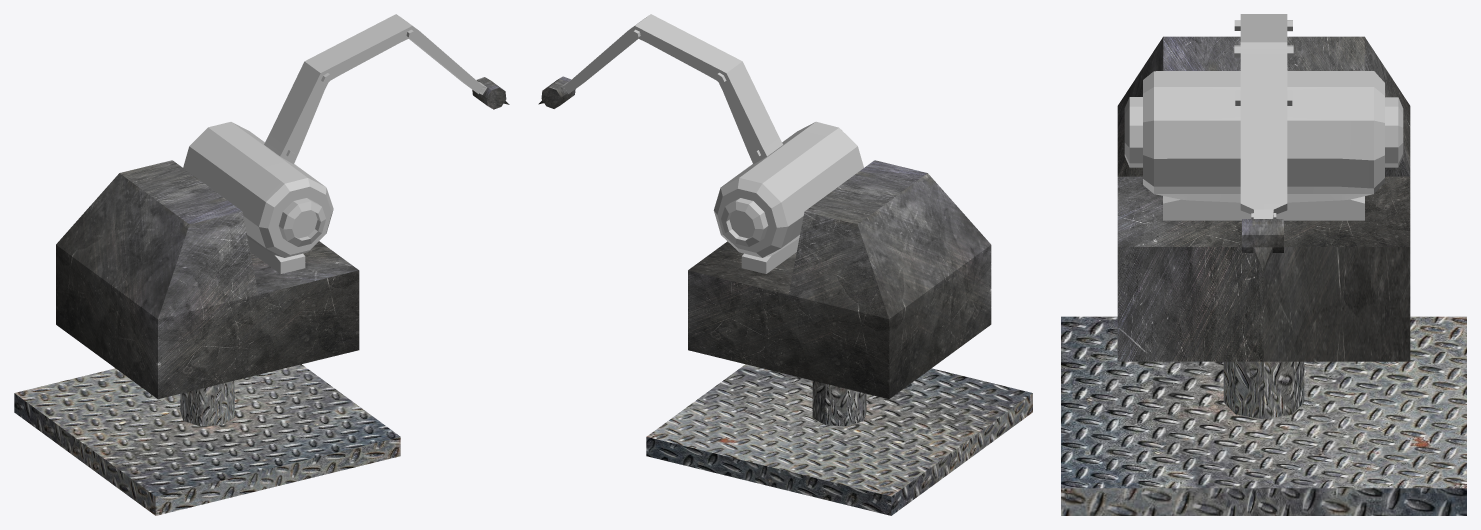
Rendered from Maq_Pistol.fbx.
3 renders of one model, left to right at view 1: azimuth 30°, elevation 25°; view 2: azimuth 150°, elevation 25°; view 3: azimuth 270°, elevation 25°, orthographic. The views are drawn at different scales.
Visible parts, largest first — view 1: polySurface39; view 2: polySurface39; view 3: polySurface39.
Boxes of the visible parts, <box> form: polySurface39: <box>14,14,509,515</box>; polySurface39: <box>538,14,1032,515</box>; polySurface39: <box>1061,14,1466,515</box>.
Bounding box in the file's own units: 5.59 × 4.61 × 3.23.
